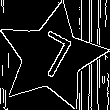L_SW: (26, 28, 77, 87)
